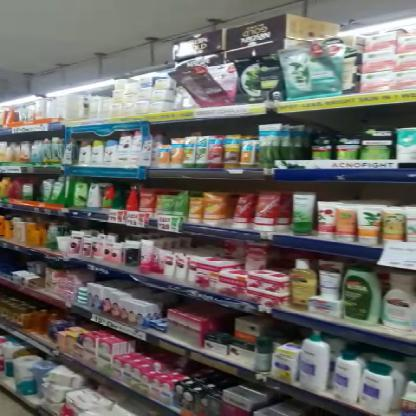Everyuth Naturals Body Lotion Nourishing Cocoa 200ml: (115, 130, 132, 168), (76, 140, 91, 166)
Everyuth Naturals Body Lotion Rejuvenating Flora 200ml: (130, 128, 140, 168)
Everyuth Naturals Body Lotion Soothing Citrus 200ml: (91, 140, 104, 168)
Everyuth Naturals Body Lotion Sun Care Berries SPF 15 200ml: (104, 139, 118, 168)
